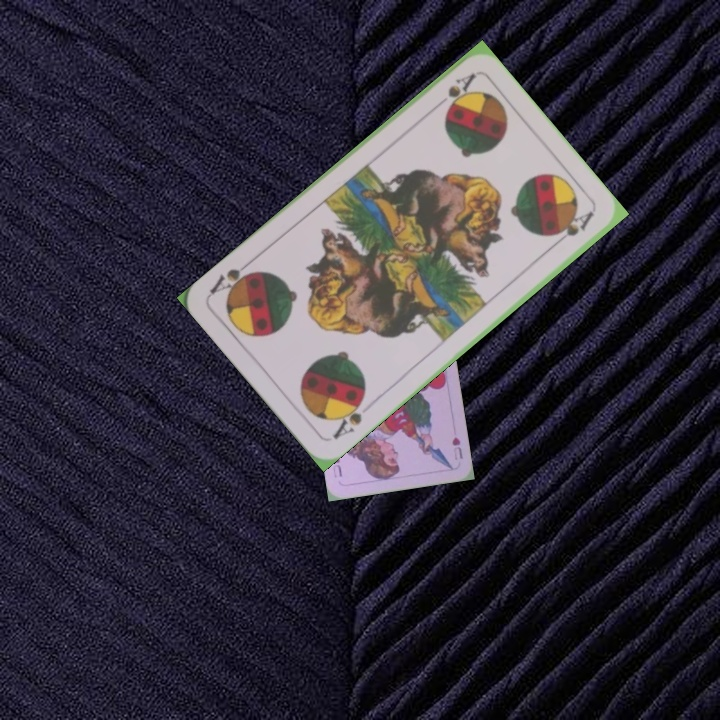HU: (448, 433, 466, 462)
SA: (328, 391, 368, 442), (441, 68, 479, 114)
